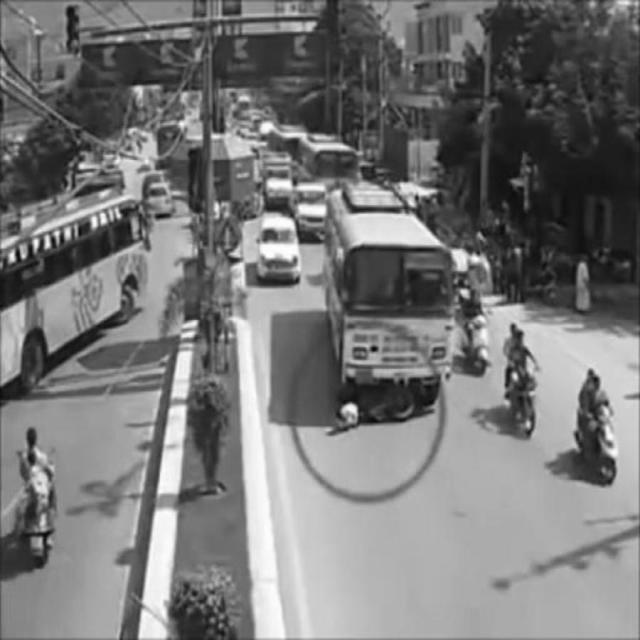accident: (322, 188, 453, 436)
vehicle: (2, 187, 153, 385), (18, 424, 60, 564), (573, 367, 620, 487), (504, 324, 538, 434), (260, 213, 300, 281), (461, 282, 489, 375)
